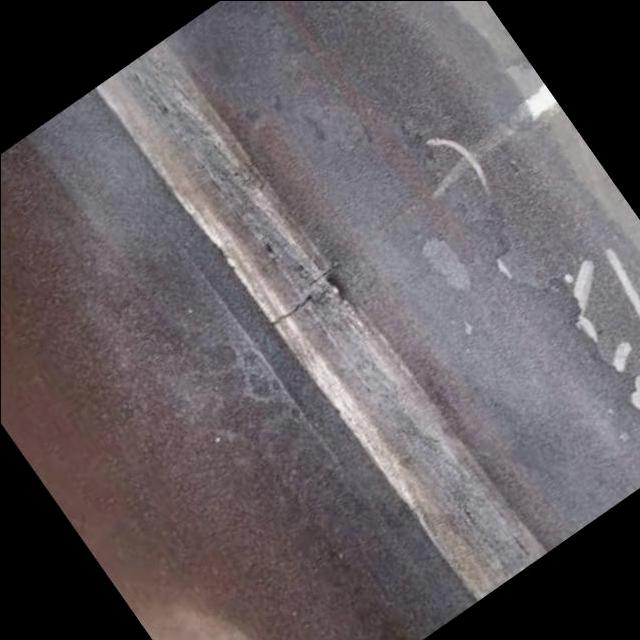defect: (269, 290, 316, 331)
